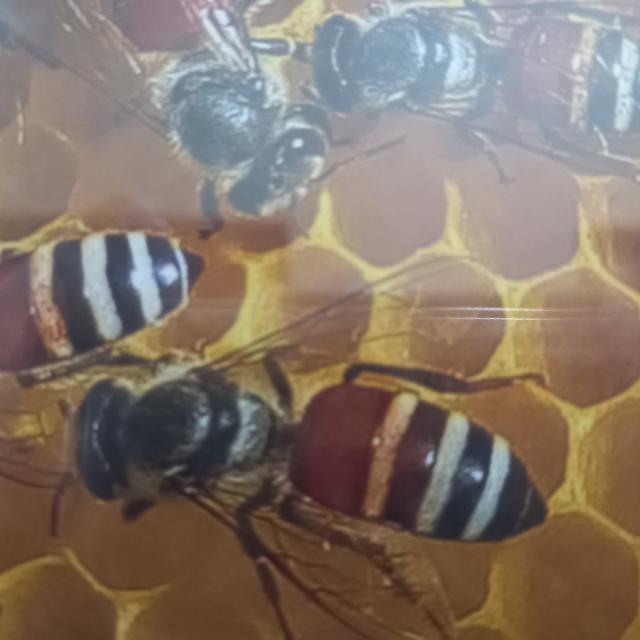honeybee: (65, 352, 583, 610), (52, 1, 326, 218), (310, 0, 640, 165), (5, 232, 208, 356)
